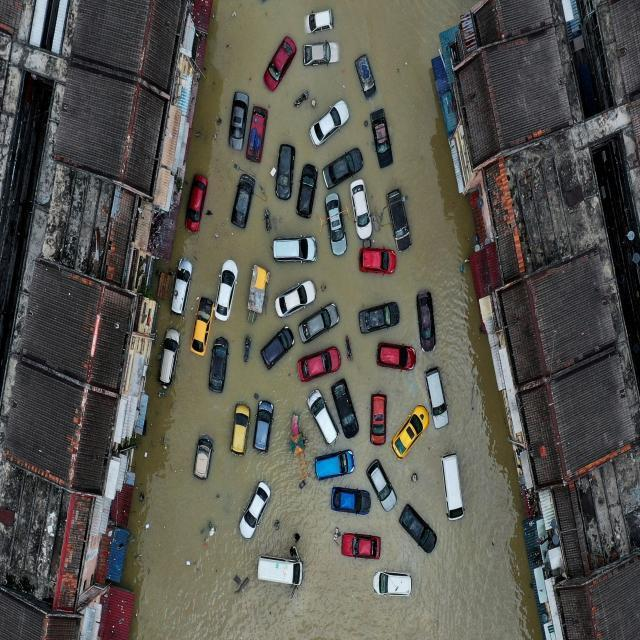flood: (124, 0, 542, 640)
house: (0, 0, 212, 639), (453, 0, 640, 640), (76, 584, 144, 638), (258, 554, 300, 587), (330, 486, 358, 508)
